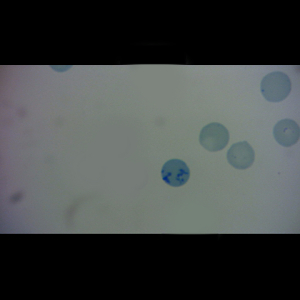aggregate reticulocyte: (159, 158, 192, 188)
erythrocyte: (271, 118, 300, 148)
punctate reticulocyte: (216, 140, 257, 171), (259, 70, 294, 104), (198, 122, 231, 152)
